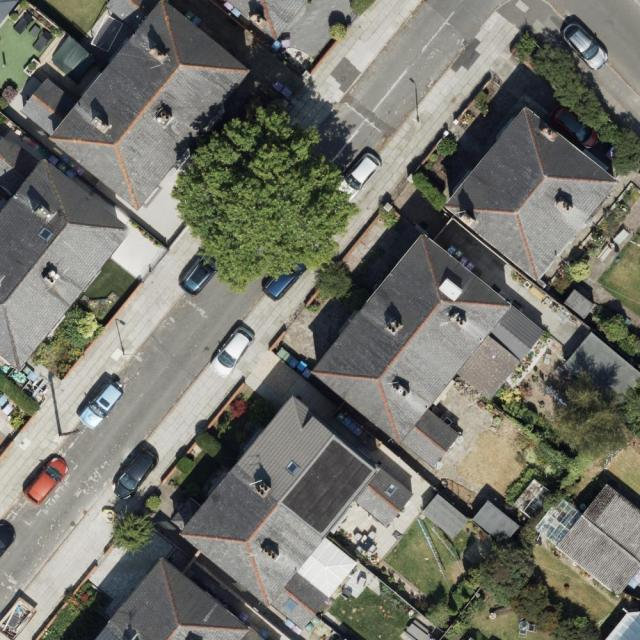roof: (307, 235, 544, 473), (180, 390, 413, 631), (17, 3, 255, 212), (441, 104, 622, 286), (1, 130, 136, 373), (96, 554, 266, 640), (534, 476, 640, 601), (220, 0, 320, 48)
skylight: (532, 495, 583, 545), (281, 457, 300, 476), (37, 225, 56, 243), (284, 597, 298, 612), (386, 483, 399, 496)
